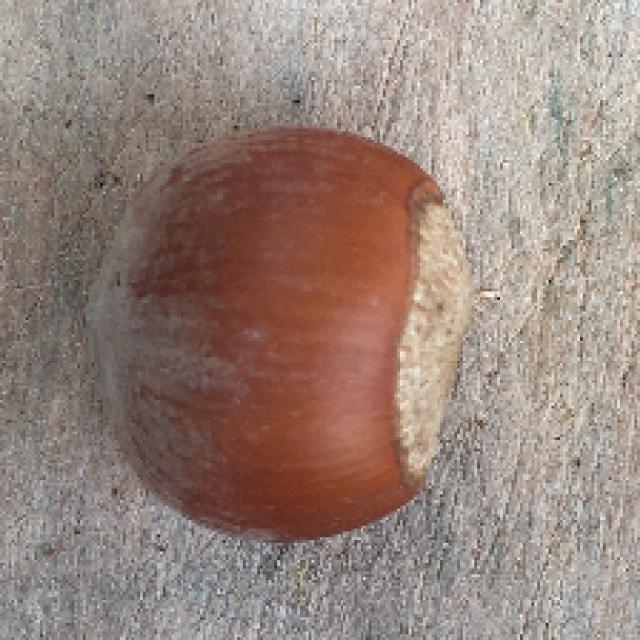qualityHazelnut: (77, 132, 477, 540)
